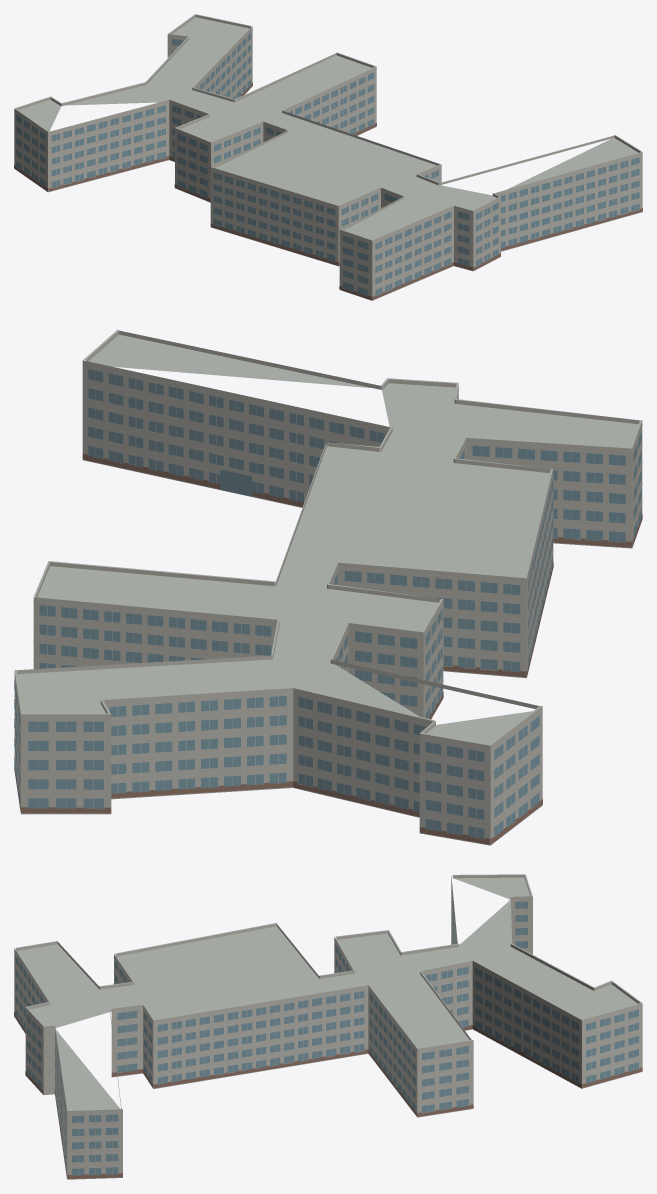
Rendered from public-8c24d547-4945-4e83-914a-a4cc0b4cb7e8.glb.
3 views of the same model, one above another, from view 1: azimuth 30°, elevation 25°; view 2: azimuth 150°, elevation 25°; view 3: azimuth 270°, elevation 25° (orthographic). The views are drawn at different scales.
Visible parts, largest first — view 1: public-8c24d547-4945-4e83-914a-a4cc0b4cb7e8; view 2: public-8c24d547-4945-4e83-914a-a4cc0b4cb7e8; view 3: public-8c24d547-4945-4e83-914a-a4cc0b4cb7e8.
Part boxes in pixels (<box>): public-8c24d547-4945-4e83-914a-a4cc0b4cb7e8: <box>14,14,642,300</box>; public-8c24d547-4945-4e83-914a-a4cc0b4cb7e8: <box>14,329,642,845</box>; public-8c24d547-4945-4e83-914a-a4cc0b4cb7e8: <box>14,874,642,1179</box>.
Bounding box in the file's own units: 113 × 15.25 × 127.
